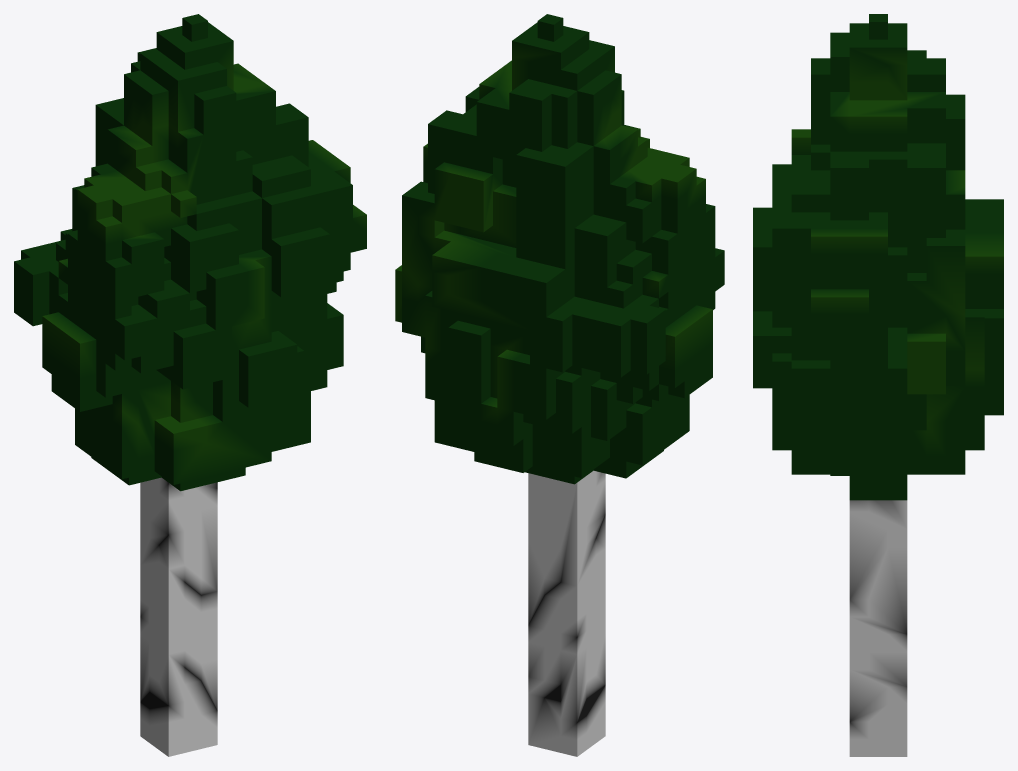
File: Tree_21.fbx
The picture shows the model from 3 angles, left to right: view 1: azimuth 30°, elevation 25°; view 2: azimuth 150°, elevation 25°; view 3: azimuth 270°, elevation 25°; orthographic projection. The views are drawn at different scales.
Parts seen in each view (by area): view 1: Tree_21; view 2: Tree_21; view 3: Tree_21.
Boxes of the visible parts, x1,y1,x2,y2 form: Tree_21: (14, 14, 366, 756); Tree_21: (395, 14, 724, 756); Tree_21: (753, 14, 1003, 756).
Size of the model in its own units: 344 by 851 by 263.
